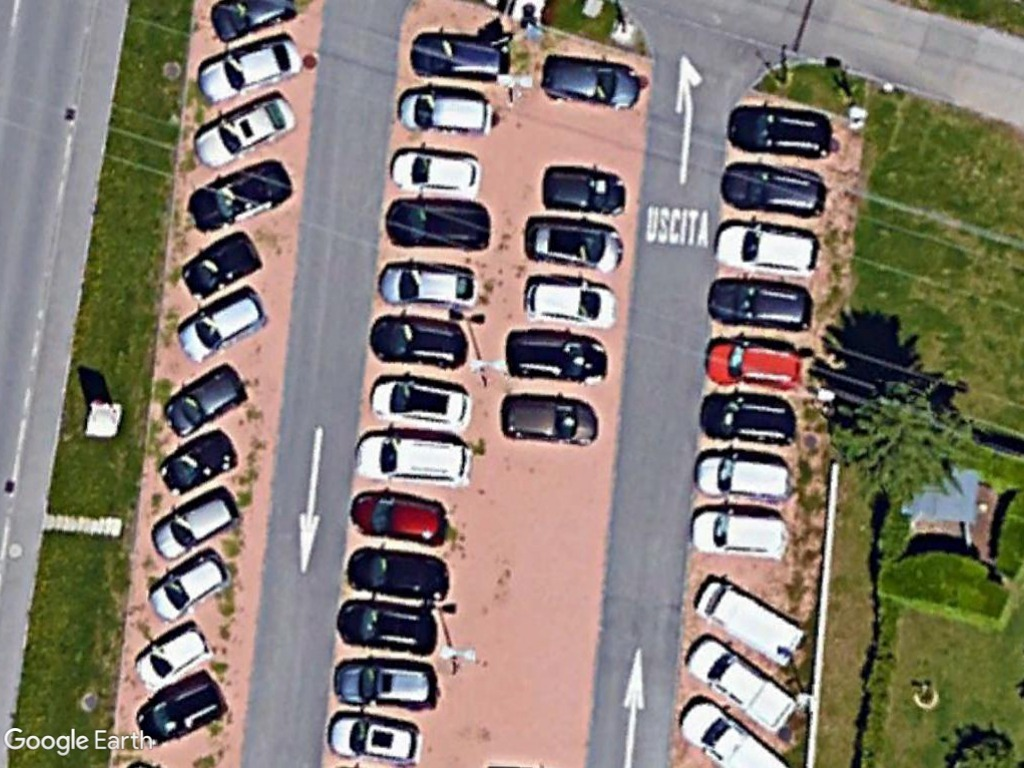car: (191, 30, 303, 107), (185, 154, 299, 228), (193, 90, 297, 167), (173, 284, 268, 367), (146, 490, 241, 566), (536, 47, 646, 112), (354, 430, 476, 487), (137, 673, 233, 743), (719, 160, 831, 219), (709, 219, 824, 276), (499, 327, 612, 384), (148, 550, 236, 623), (166, 361, 251, 436), (384, 194, 496, 250), (724, 105, 838, 159), (369, 374, 476, 431), (348, 545, 454, 602), (521, 214, 627, 271), (688, 506, 795, 562), (705, 278, 818, 331), (347, 489, 453, 545), (365, 314, 473, 368), (333, 655, 439, 710), (333, 600, 440, 654), (698, 389, 799, 446), (501, 391, 601, 447), (704, 337, 807, 391), (394, 87, 500, 138), (386, 146, 489, 197), (326, 712, 424, 765), (518, 278, 618, 329), (133, 623, 211, 688), (693, 456, 791, 505), (373, 262, 480, 306), (536, 165, 630, 212)
van: (685, 630, 797, 736), (696, 578, 806, 667)
